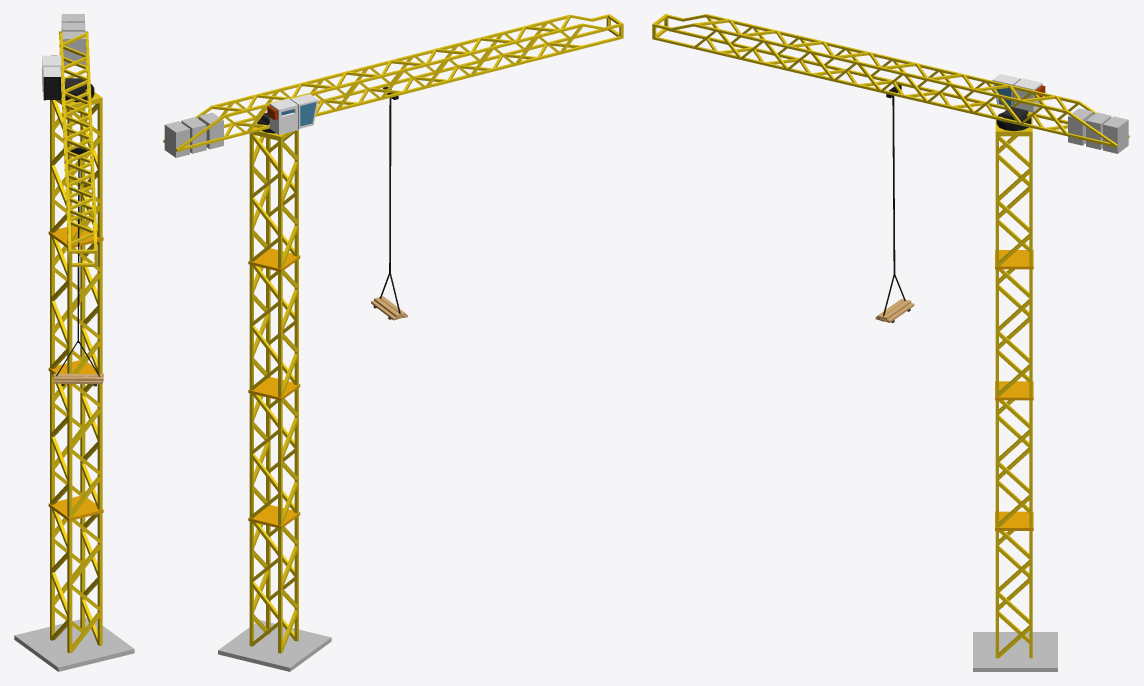
File: crane.glb
3 views of the same model, side by side, from view 1: azimuth 30°, elevation 25°; view 2: azimuth 150°, elevation 25°; view 3: azimuth 270°, elevation 25° (orthographic). The views are drawn at different scales.
Visible parts, largest first — view 1: Crane Ground; view 2: Crane Ground; view 3: Crane Ground.
Boxes of the visible parts, bbox=[...] form: Crane Ground: bbox=[14, 14, 134, 671]; Crane Ground: bbox=[163, 14, 623, 671]; Crane Ground: bbox=[652, 14, 1129, 671].
Bounding box in the file's own units: 24.48 × 54.08 × 41.61.
Materials: 1 (1 with a texture image).
